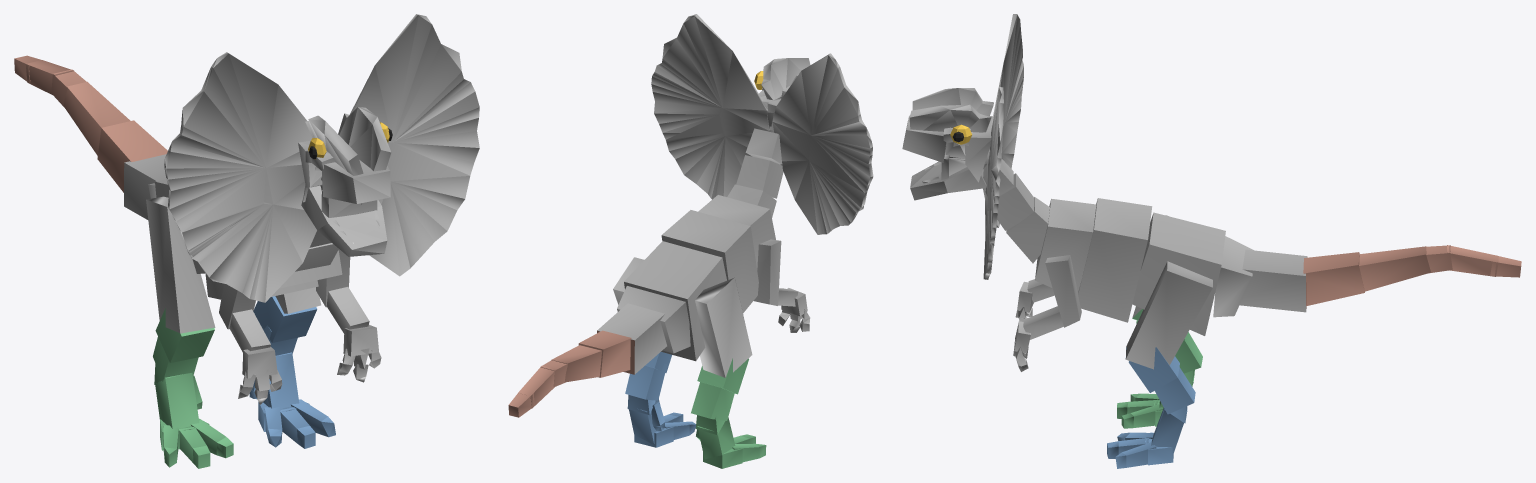
Rendered from dilopho.fbx.
3 views of the same model, side by side, from view 1: azimuth 30°, elevation 25°; view 2: azimuth 150°, elevation 25°; view 3: azimuth 270°, elevation 25° (orthographic). The views are drawn at different scales.
Visible parts, largest first — view 1: dilopho_Body, dilopho_LegR, dilopho_Tail, dilopho_LegL; view 2: dilopho_Body, dilopho_Tail, dilopho_LegR, dilopho_LegL; view 3: dilopho_Body, dilopho_Tail, dilopho_LegL, dilopho_LegR.
Boxes of the visible parts, left/top/right/bottom form: dilopho_Body: left=124, top=14, right=479, bottom=404; dilopho_LegR: left=153, top=308, right=233, bottom=468; dilopho_Tail: left=14, top=55, right=167, bottom=192; dilopho_LegL: left=249, top=296, right=335, bottom=448; dilopho_Body: left=597, top=14, right=873, bottom=377; dilopho_Tail: left=508, top=330, right=634, bottom=417; dilopho_LegR: left=691, top=358, right=766, bottom=468; dilopho_LegL: left=625, top=352, right=695, bottom=447; dilopho_Body: left=902, top=14, right=1306, bottom=371; dilopho_Tail: left=1303, top=245, right=1521, bottom=308; dilopho_LegL: left=1107, top=347, right=1195, bottom=468; dilopho_LegR: left=1117, top=309, right=1202, bottom=428.
Size of the model in its own units: 4.33 by 6.52 by 9.46.
